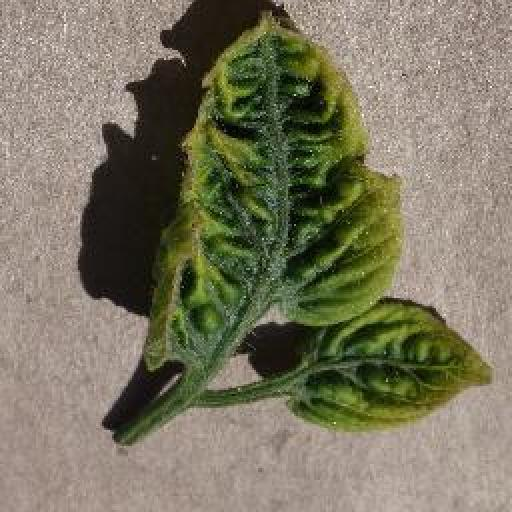disease_tomato: (143, 4, 408, 369), (286, 297, 498, 431)
